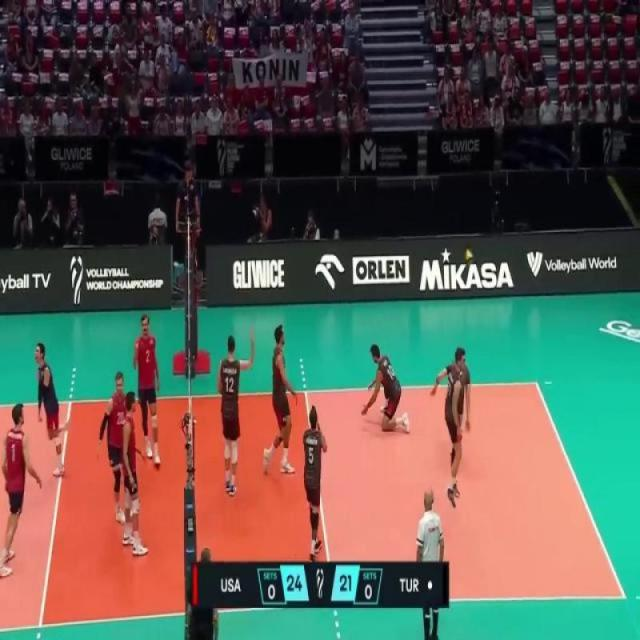volleyball: (462, 246, 476, 267)
